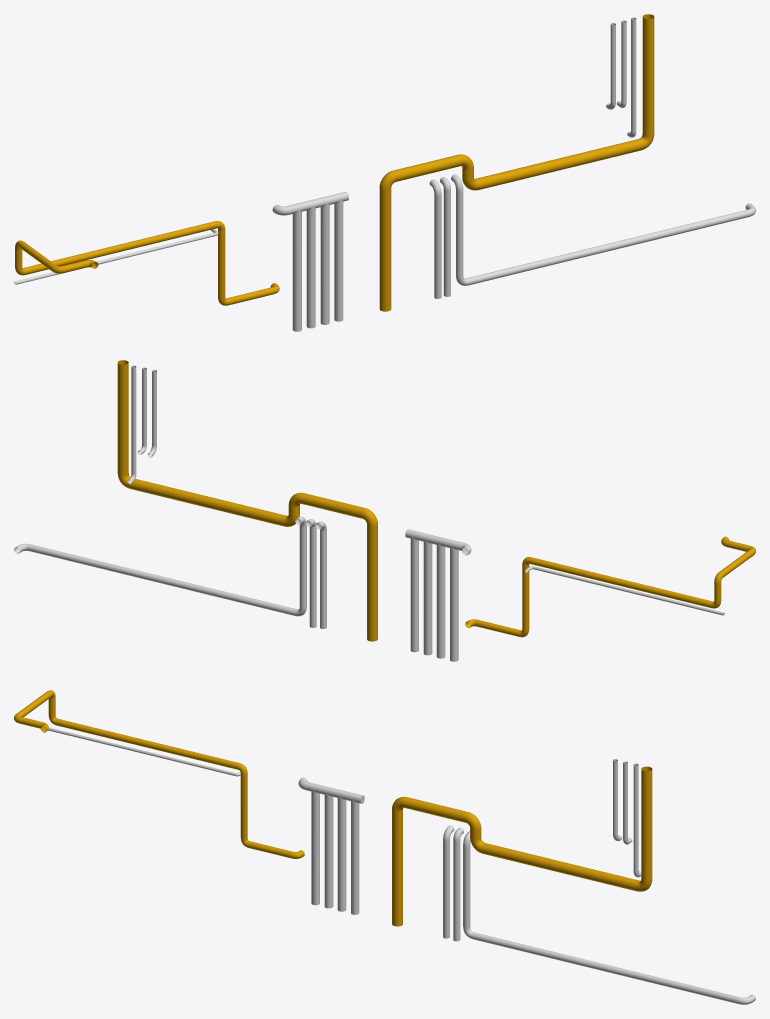
The picture shows the model from 3 angles, top to bottom: view 1: azimuth 30°, elevation 25°; view 2: azimuth 150°, elevation 25°; view 3: azimuth 330°, elevation 25°; orthographic projection. The views are drawn at different scales.
Parts seen in each view (by area): view 1: SM_H_Building_FutureTech_PrintArea_InterWall_01B; view 2: SM_H_Building_FutureTech_PrintArea_InterWall_01B; view 3: SM_H_Building_FutureTech_PrintArea_InterWall_01B.
Part boxes in pixels (<box>): SM_H_Building_FutureTech_PrintArea_InterWall_01B: <box>14,14,755,331</box>; SM_H_Building_FutureTech_PrintArea_InterWall_01B: <box>14,360,755,661</box>; SM_H_Building_FutureTech_PrintArea_InterWall_01B: <box>14,690,755,1004</box>.
Bounding box in the file's own units: 196 × 1754 × 518.
